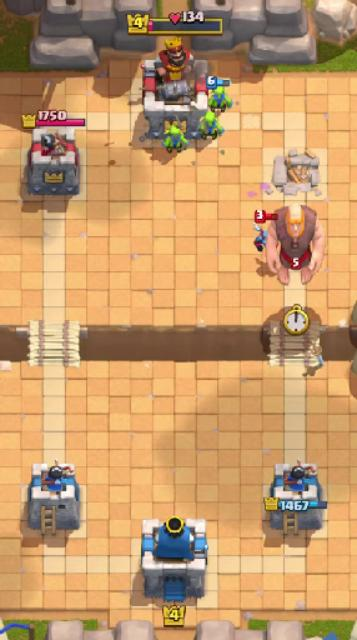ally_melee: (207, 76, 235, 112), (161, 127, 192, 153), (199, 112, 224, 139)
enemy_melee: (270, 205, 328, 283), (253, 211, 279, 254)
